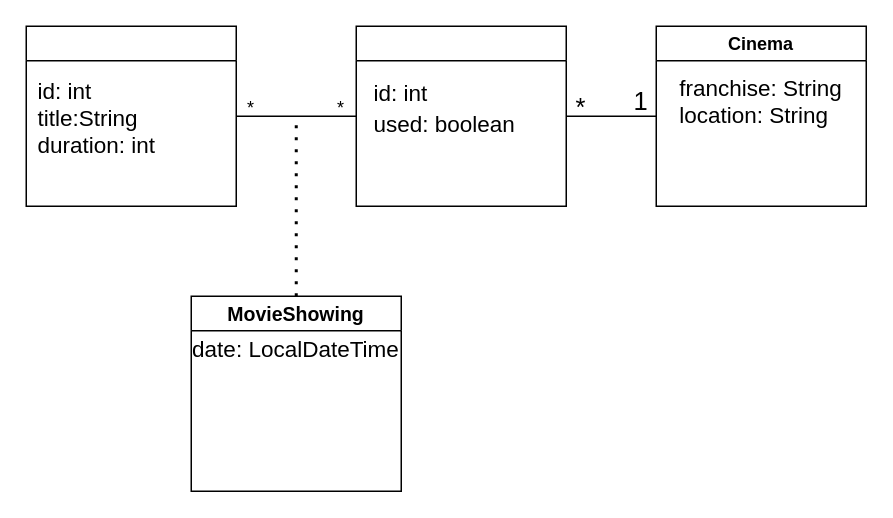
The diagram is 893 pixels wide and 518 high, and some of its shapes have lost their labels. The box of each missing label's shape, as (x1, y1, x2, y2) in pixels:
Movie: (25, 25, 236, 206)
Room: (355, 25, 566, 206)
